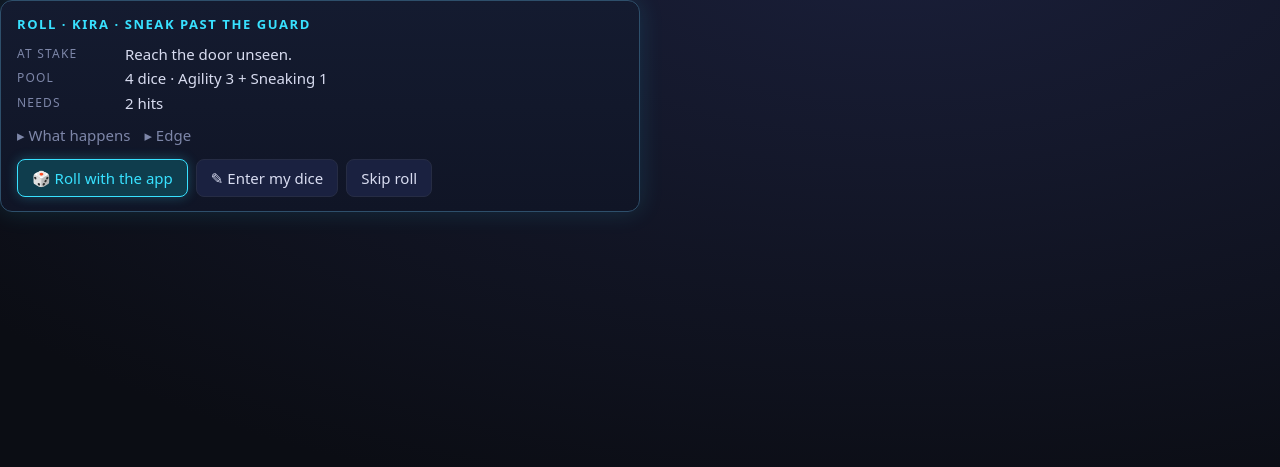
Test case: Edge before the roll › starts folded: neither the advice nor the Edge choices show until it is opened, and one toggle opens both
The image size is (1280, 467).
Expected: the text "Hold it for a reroll." is not shown
Expected: the field labelled "Edge dice · 4 Edge" is not shown
Click the button "▸ Edge" at (168, 135), box top-left (144, 124), bottom-right (191, 146)
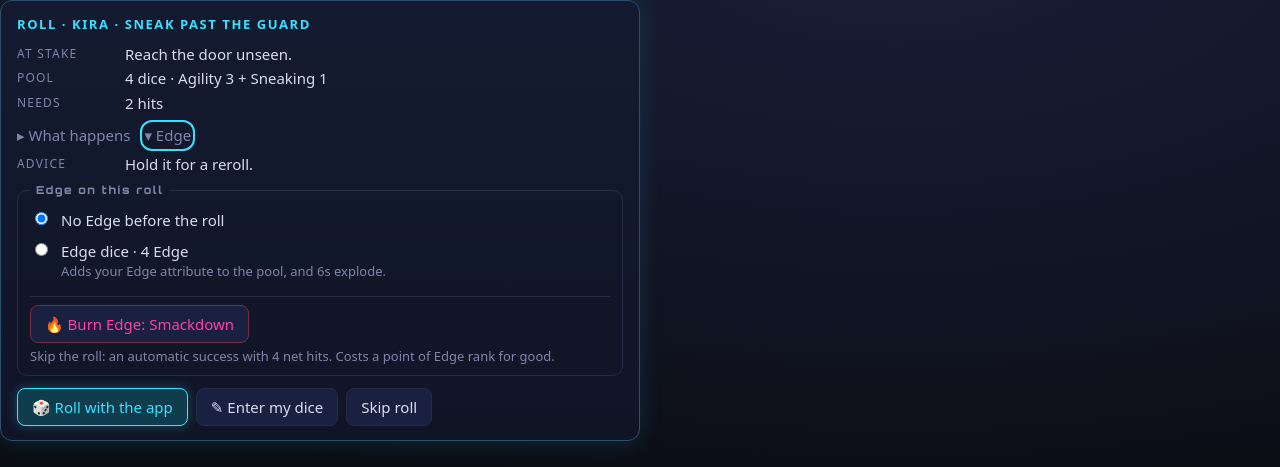
Now the text "Hold it for a reroll." is shown, box top-left (125, 154), bottom-right (253, 174)
Now the radio button labelled "Edge dice · 4 Edge" is shown, box top-left (35, 242), bottom-right (48, 256)
Click the button "▾ Edge" at (168, 135), box top-left (144, 124), bottom-right (191, 146)
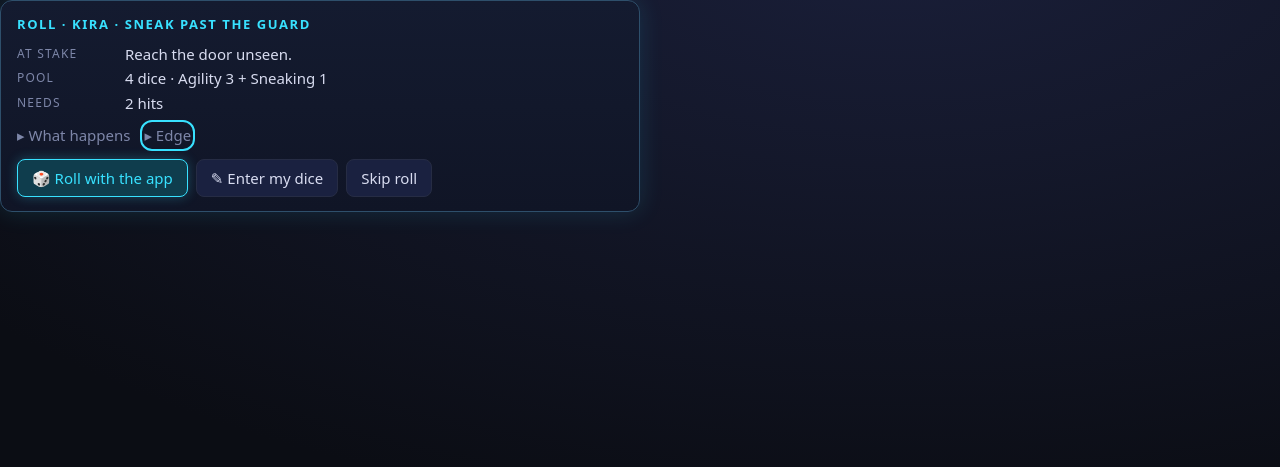
Now the field labelled "Edge dice · 4 Edge" is gone
